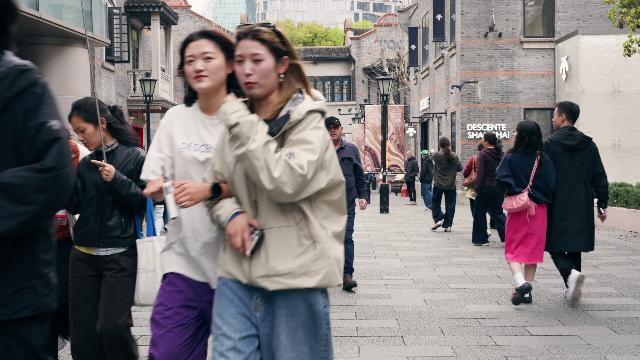person: (200, 22, 349, 360), (134, 29, 246, 360), (540, 101, 609, 306), (494, 119, 556, 306), (323, 116, 368, 290), (471, 131, 508, 246), (430, 136, 465, 232), (463, 141, 484, 236), (402, 151, 419, 205), (419, 150, 433, 211)
